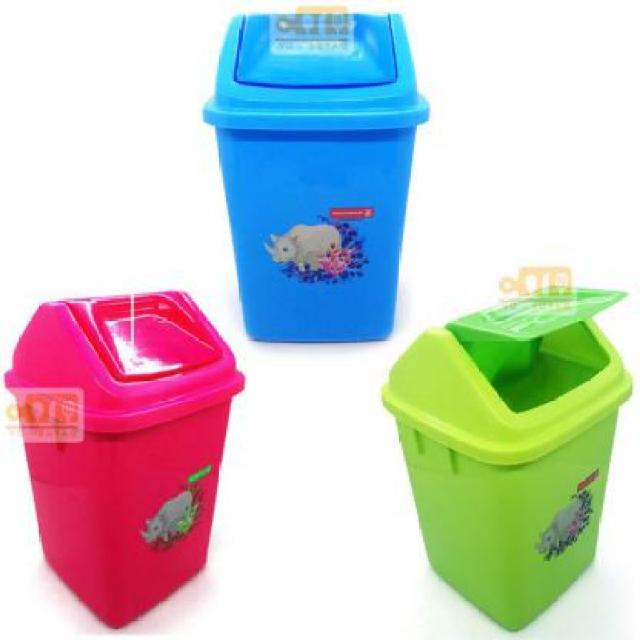garbage container: (372, 280, 639, 638), (1, 287, 247, 638), (216, 5, 442, 363)
